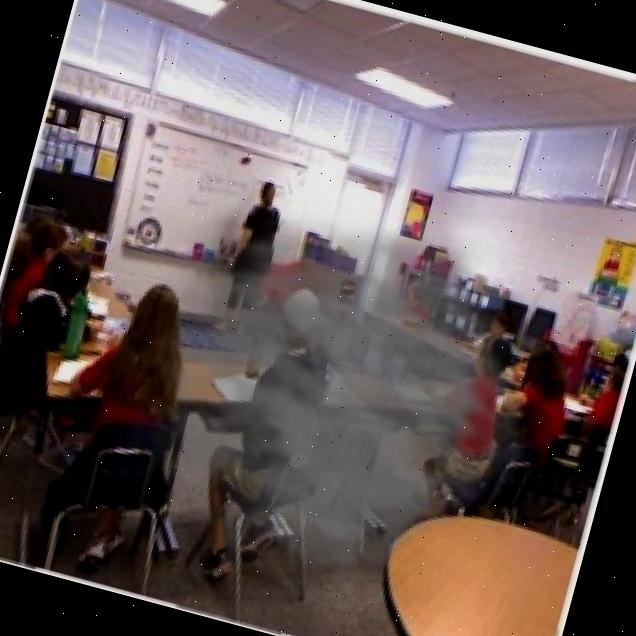smoke: (70, 157, 577, 636)
